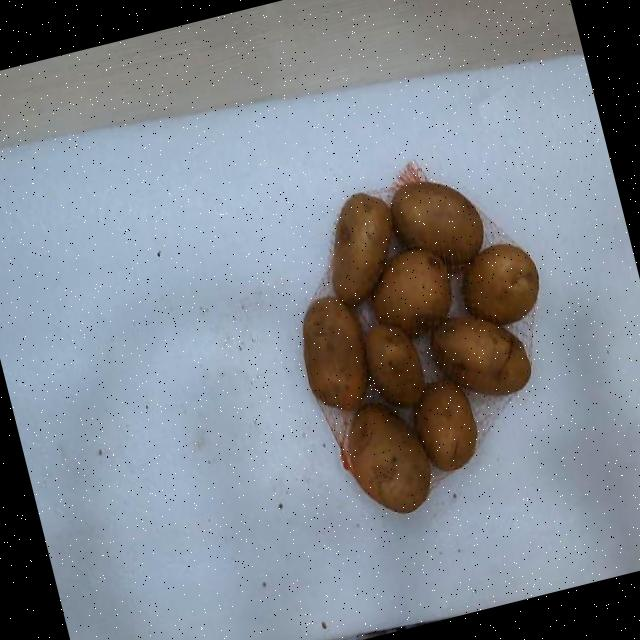potato: (348, 403, 430, 511), (431, 317, 531, 394), (390, 183, 483, 264), (302, 296, 367, 411), (331, 192, 391, 305), (373, 249, 451, 334), (464, 243, 539, 324), (415, 379, 477, 470), (365, 326, 424, 404)
